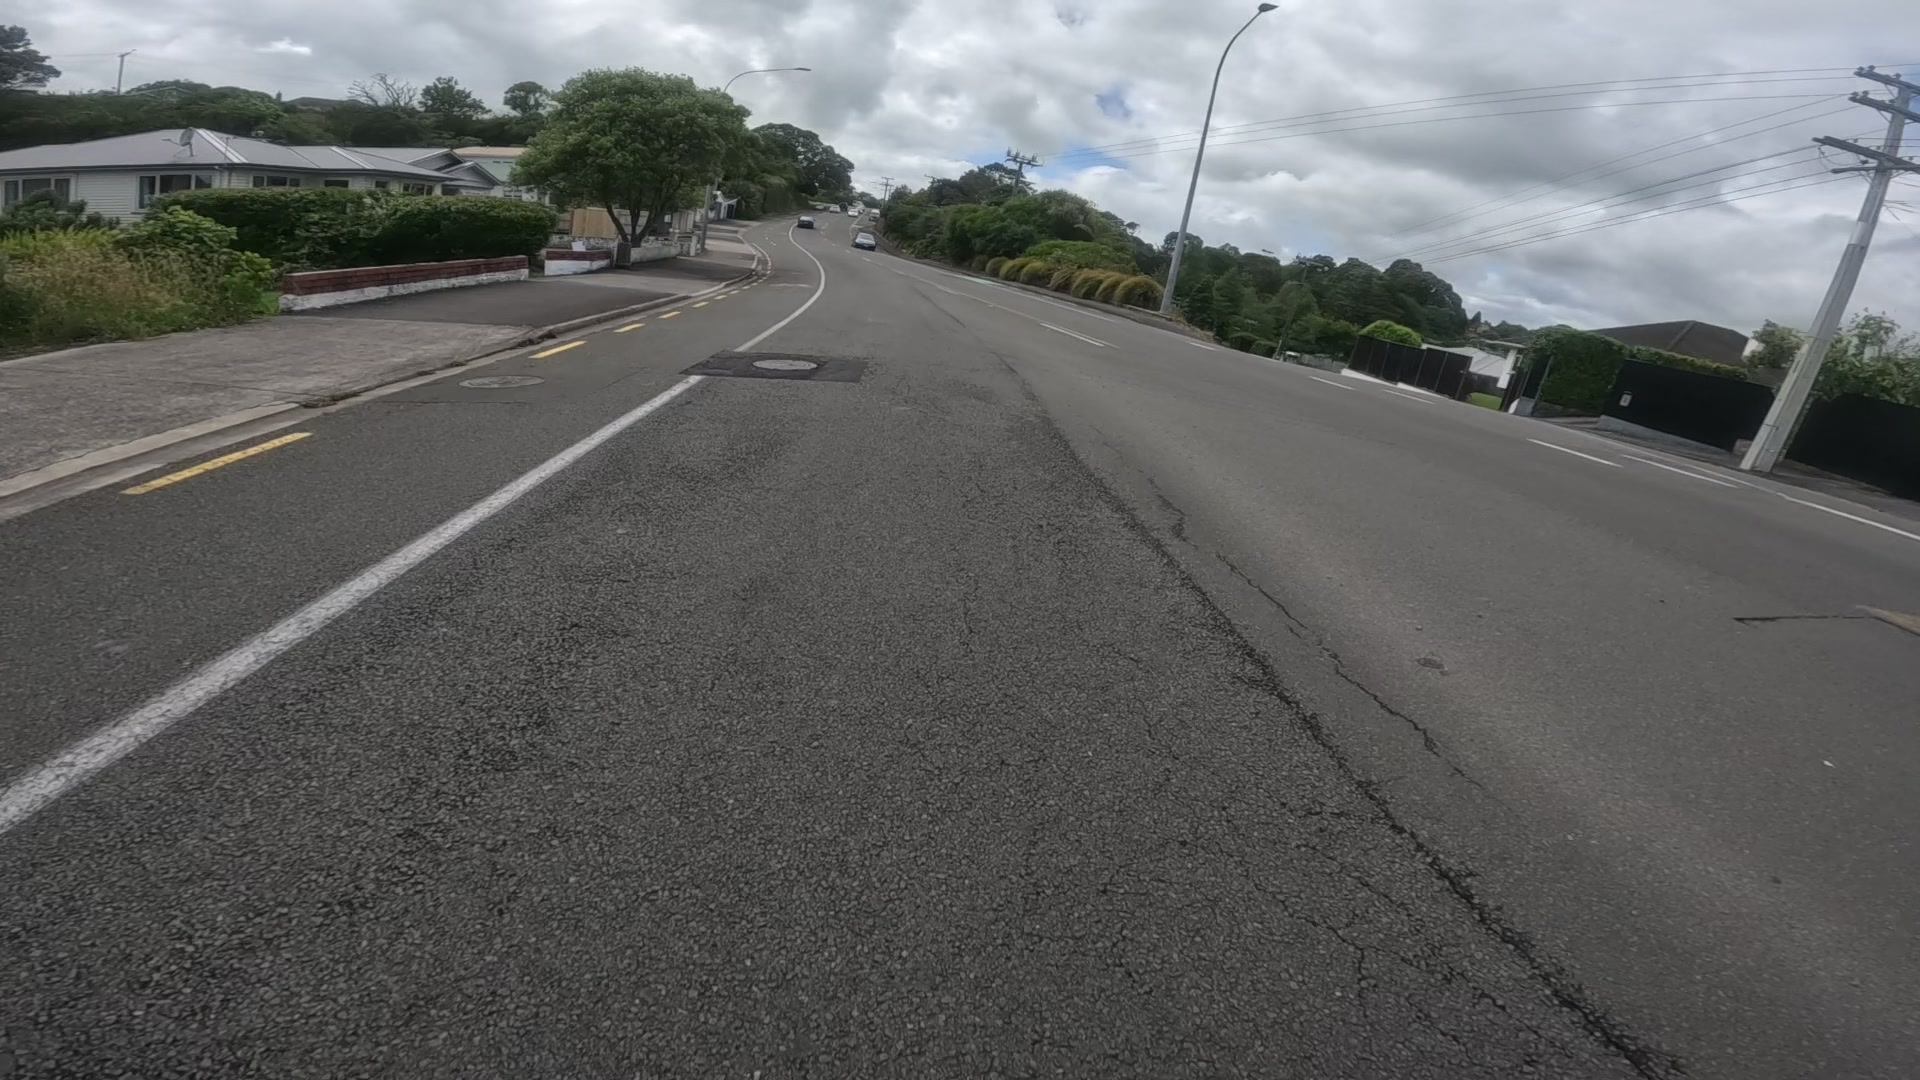Longitudinal_Cracking: (1105, 506, 1553, 1001), (1221, 539, 1513, 789)
